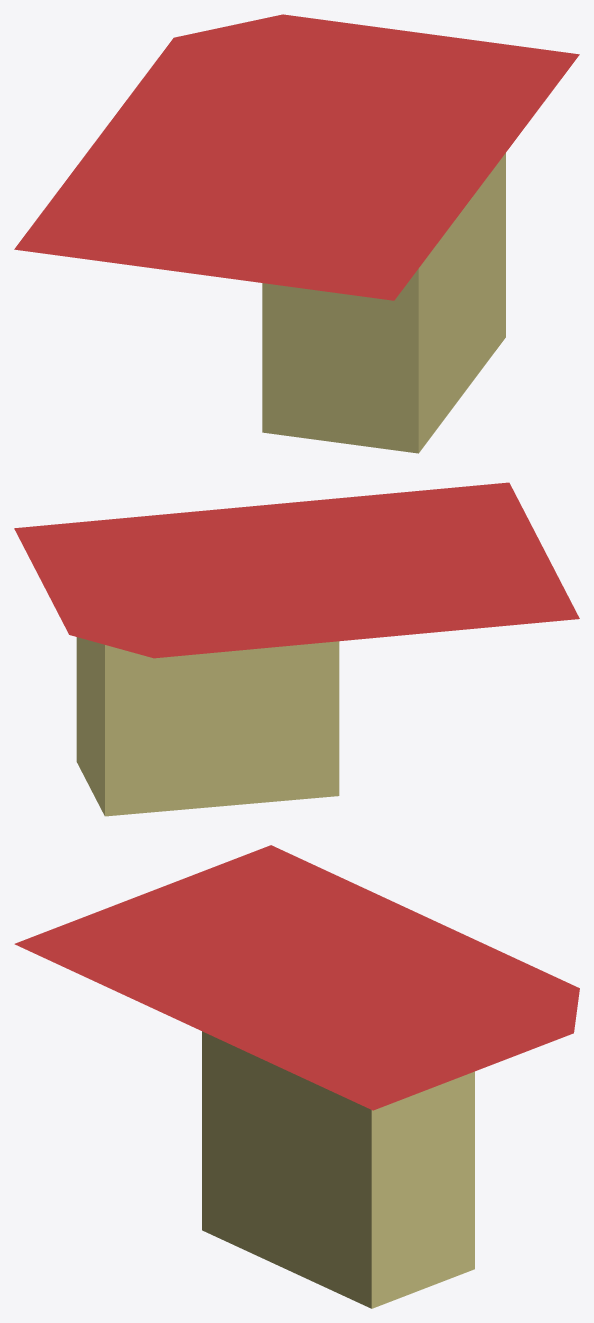
The picture shows the model from 3 angles, top to bottom: view 1: azimuth 30°, elevation 25°; view 2: azimuth 150°, elevation 25°; view 3: azimuth 270°, elevation 25°; orthographic projection. The views are drawn at different scales.
Parts seen in each view (by area): view 1: group_3, group_4, group_5; view 2: group_3, group_5, group_4; view 3: group_3, group_5, group_4.
Boxes of the visible parts, bbox=[...] form: group_3: bbox=[14, 14, 579, 300]; group_4: bbox=[15, 15, 578, 300]; group_5: bbox=[262, 153, 505, 453]; group_3: bbox=[14, 482, 579, 658]; group_5: bbox=[76, 637, 339, 816]; group_4: bbox=[14, 483, 578, 657]; group_3: bbox=[14, 845, 579, 1110]; group_5: bbox=[202, 1031, 474, 1308]; group_4: bbox=[16, 845, 579, 1110].
Size of the model in its own units: 13.7 by 12.34 by 5.53.
